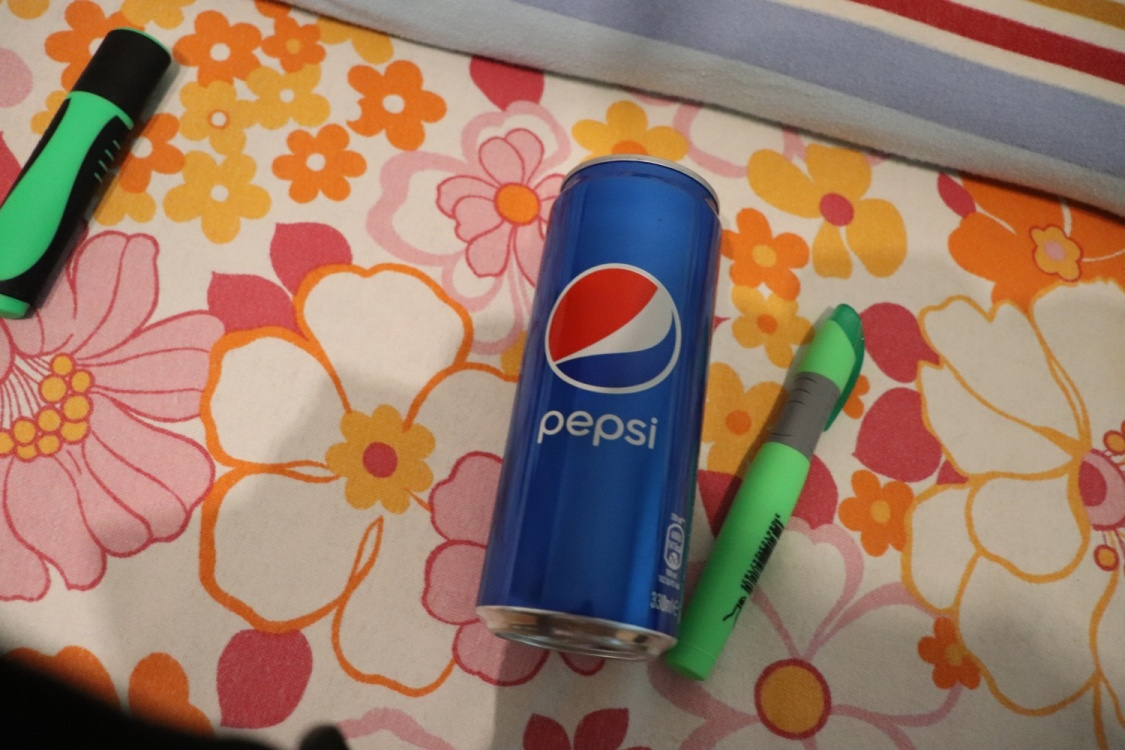pepsi: (472, 149, 727, 689)
